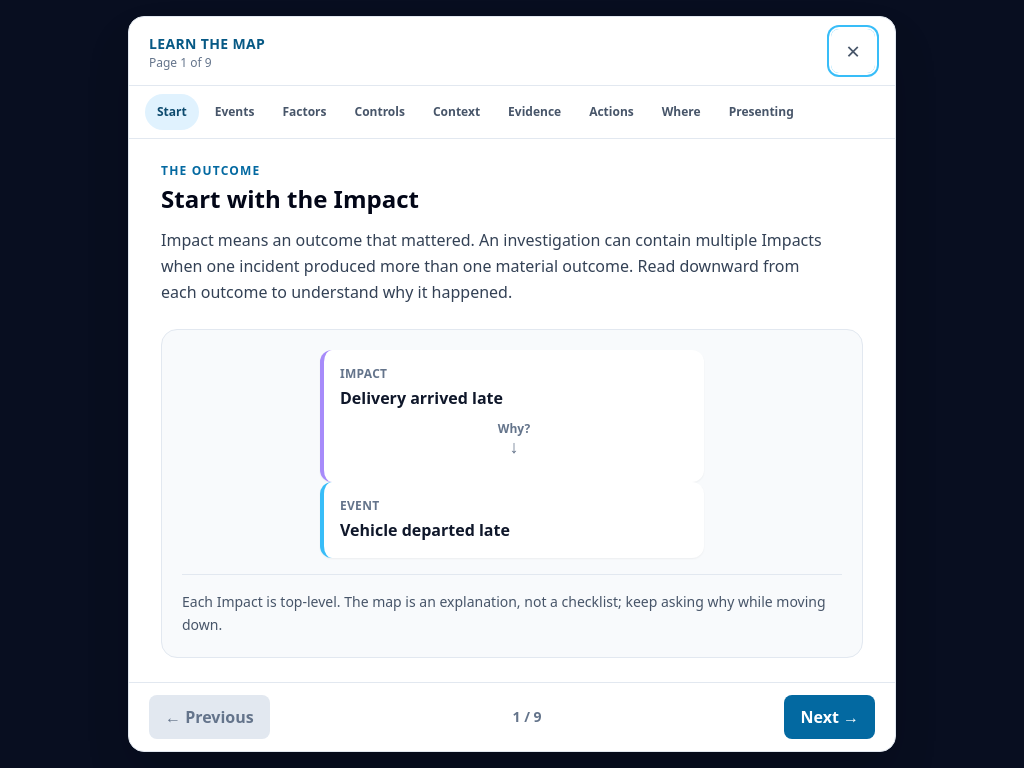
Test case: Learn the Map › navigates all pages and reports its position
Expected: the text "Page 1 of 9" is shown, [149, 54, 212, 71]
Click the button "Next →".
click(830, 717)  # box [784, 695, 875, 739]
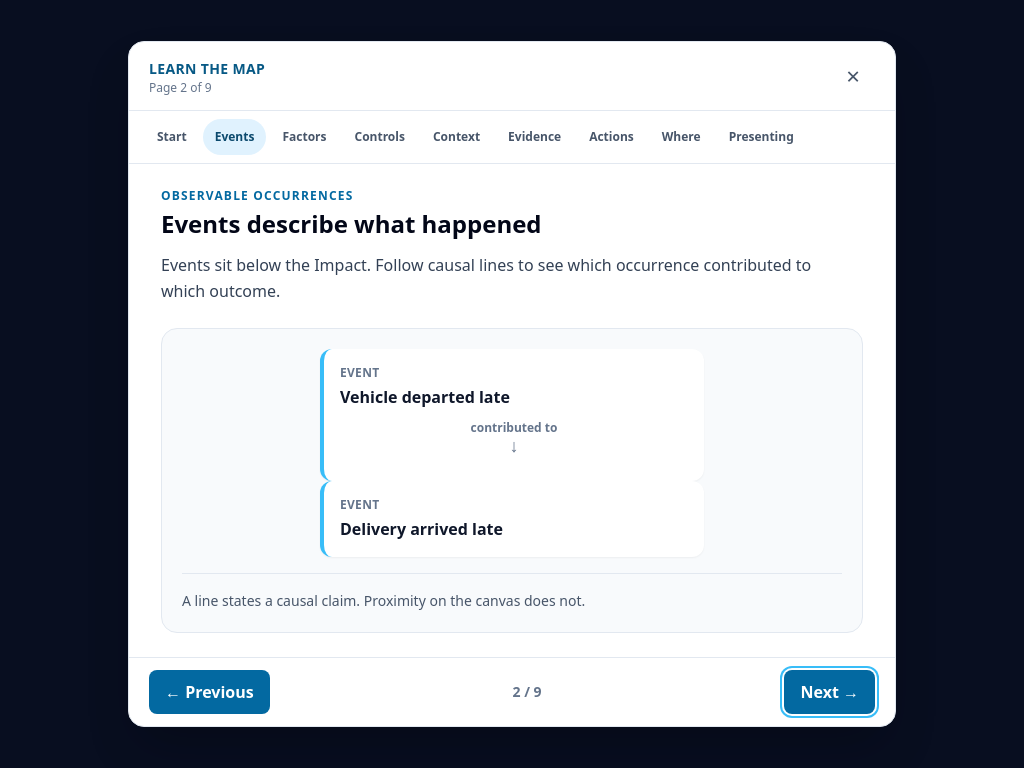
Result: the heading "Events describe what happened" is shown at [161, 207, 542, 240]
Click the button with aria-label "Where does this information belong?".
click(681, 137)  # box [650, 119, 713, 155]
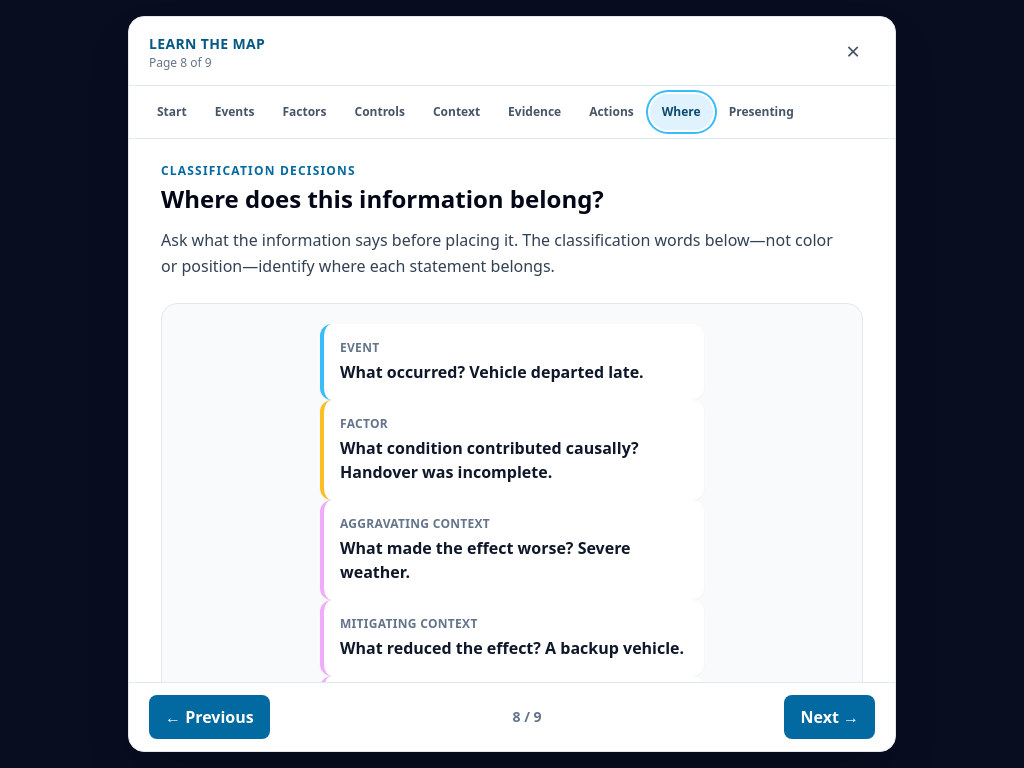
Result: the heading "Where does this information belong?" is shown at [161, 182, 604, 215]
Result: the text "8 / 9" is shown at [512, 707, 542, 727]
Result: the text "What occurred? Vehicle departed late." is shown at [340, 360, 688, 384]
Click the button with aria-label "Present the story, not the canvas".
click(761, 112)  # box [717, 94, 806, 130]
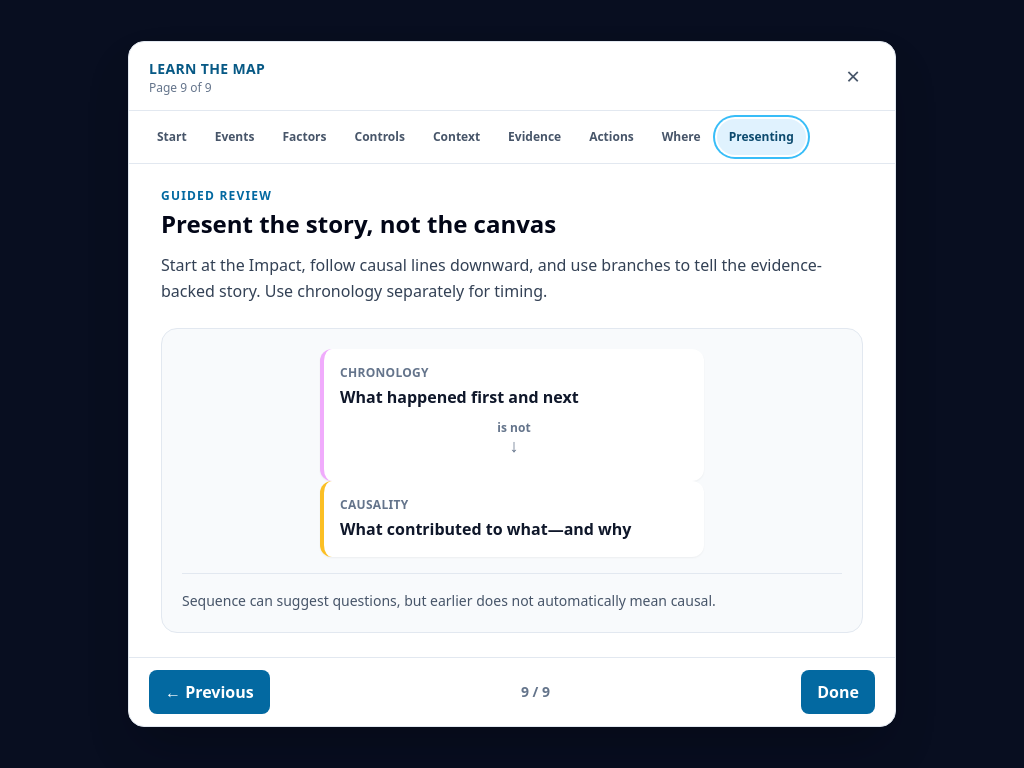
Result: the text "9 / 9" is shown at [521, 682, 550, 702]
